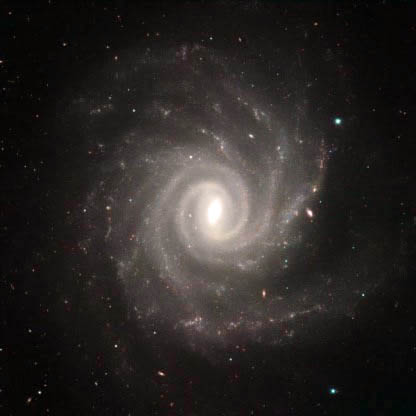NGC 1232: (60, 33, 371, 360)
